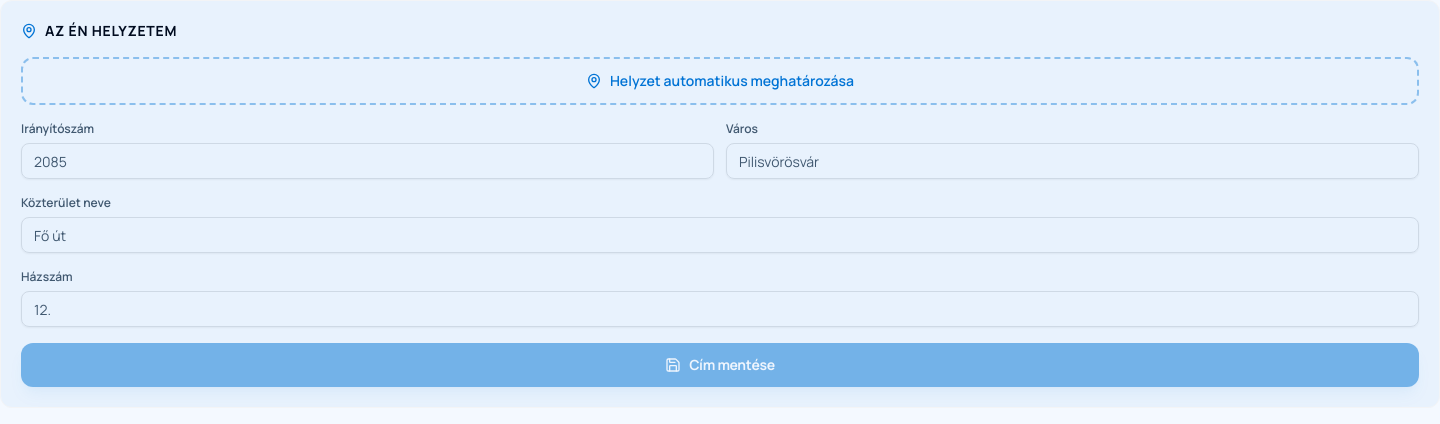
Test: ProLocationSection – GPS detection › shows 'Helyzet rögzítve' after GPS detection
Click the button "Helyzet automatikus meghatározása". click: (720, 81)
box: [21,57,1419,105]
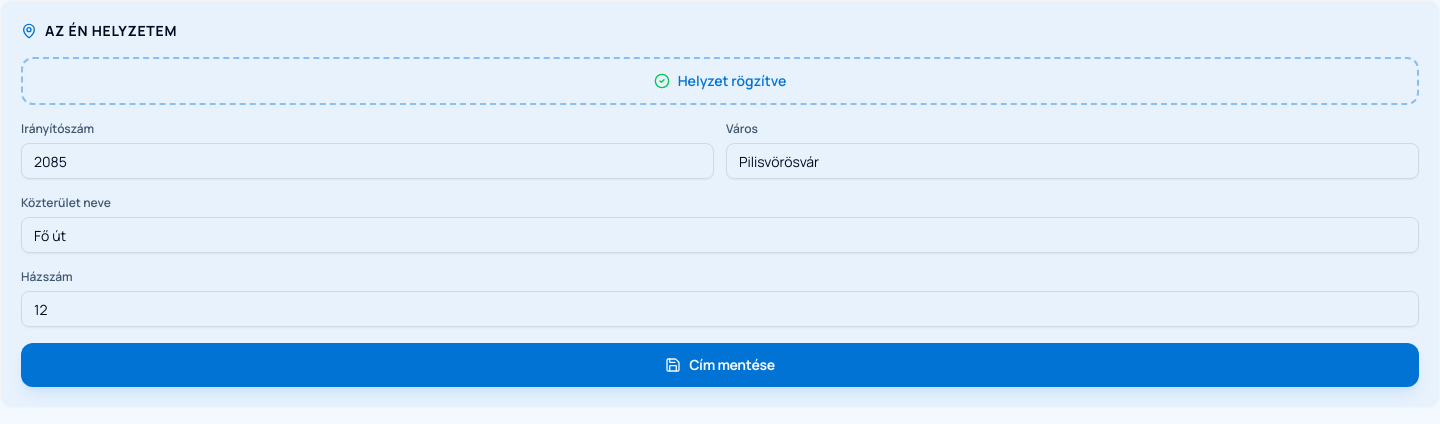
expect the button "Helyzet rögzítve" is shown: met, box [21,57,1419,105]
